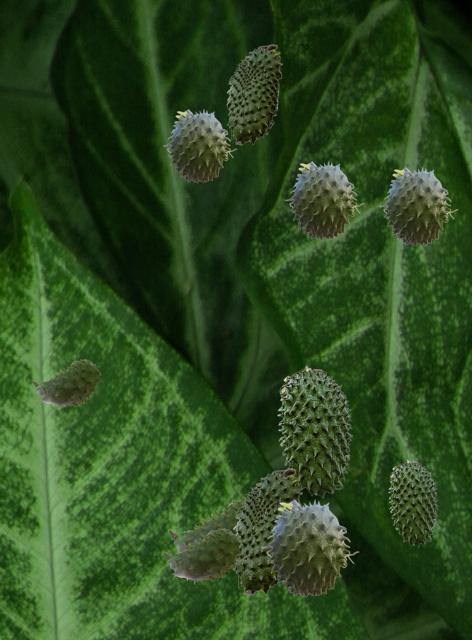guyabano: (277, 365, 352, 497), (261, 498, 358, 596), (232, 468, 301, 594), (379, 166, 457, 245), (285, 160, 363, 239), (226, 44, 281, 144), (163, 108, 236, 182), (168, 497, 243, 569), (163, 528, 241, 583), (388, 459, 437, 546), (32, 359, 100, 408)
